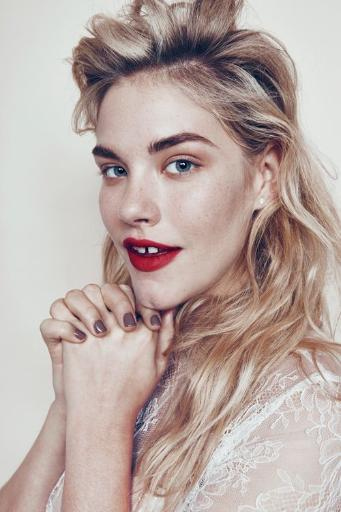left_eye: (161, 156, 207, 182)
left_lip_corner: (177, 241, 190, 258)
right_eye: (100, 165, 129, 185)
right_lip_corner: (122, 238, 131, 253)
